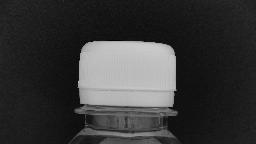Good Cap: (73, 37, 183, 122)
